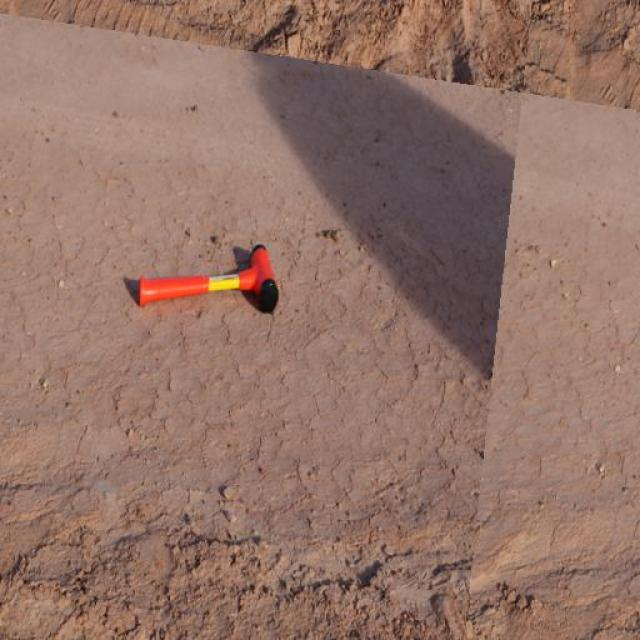mallet: (132, 242, 278, 314)
